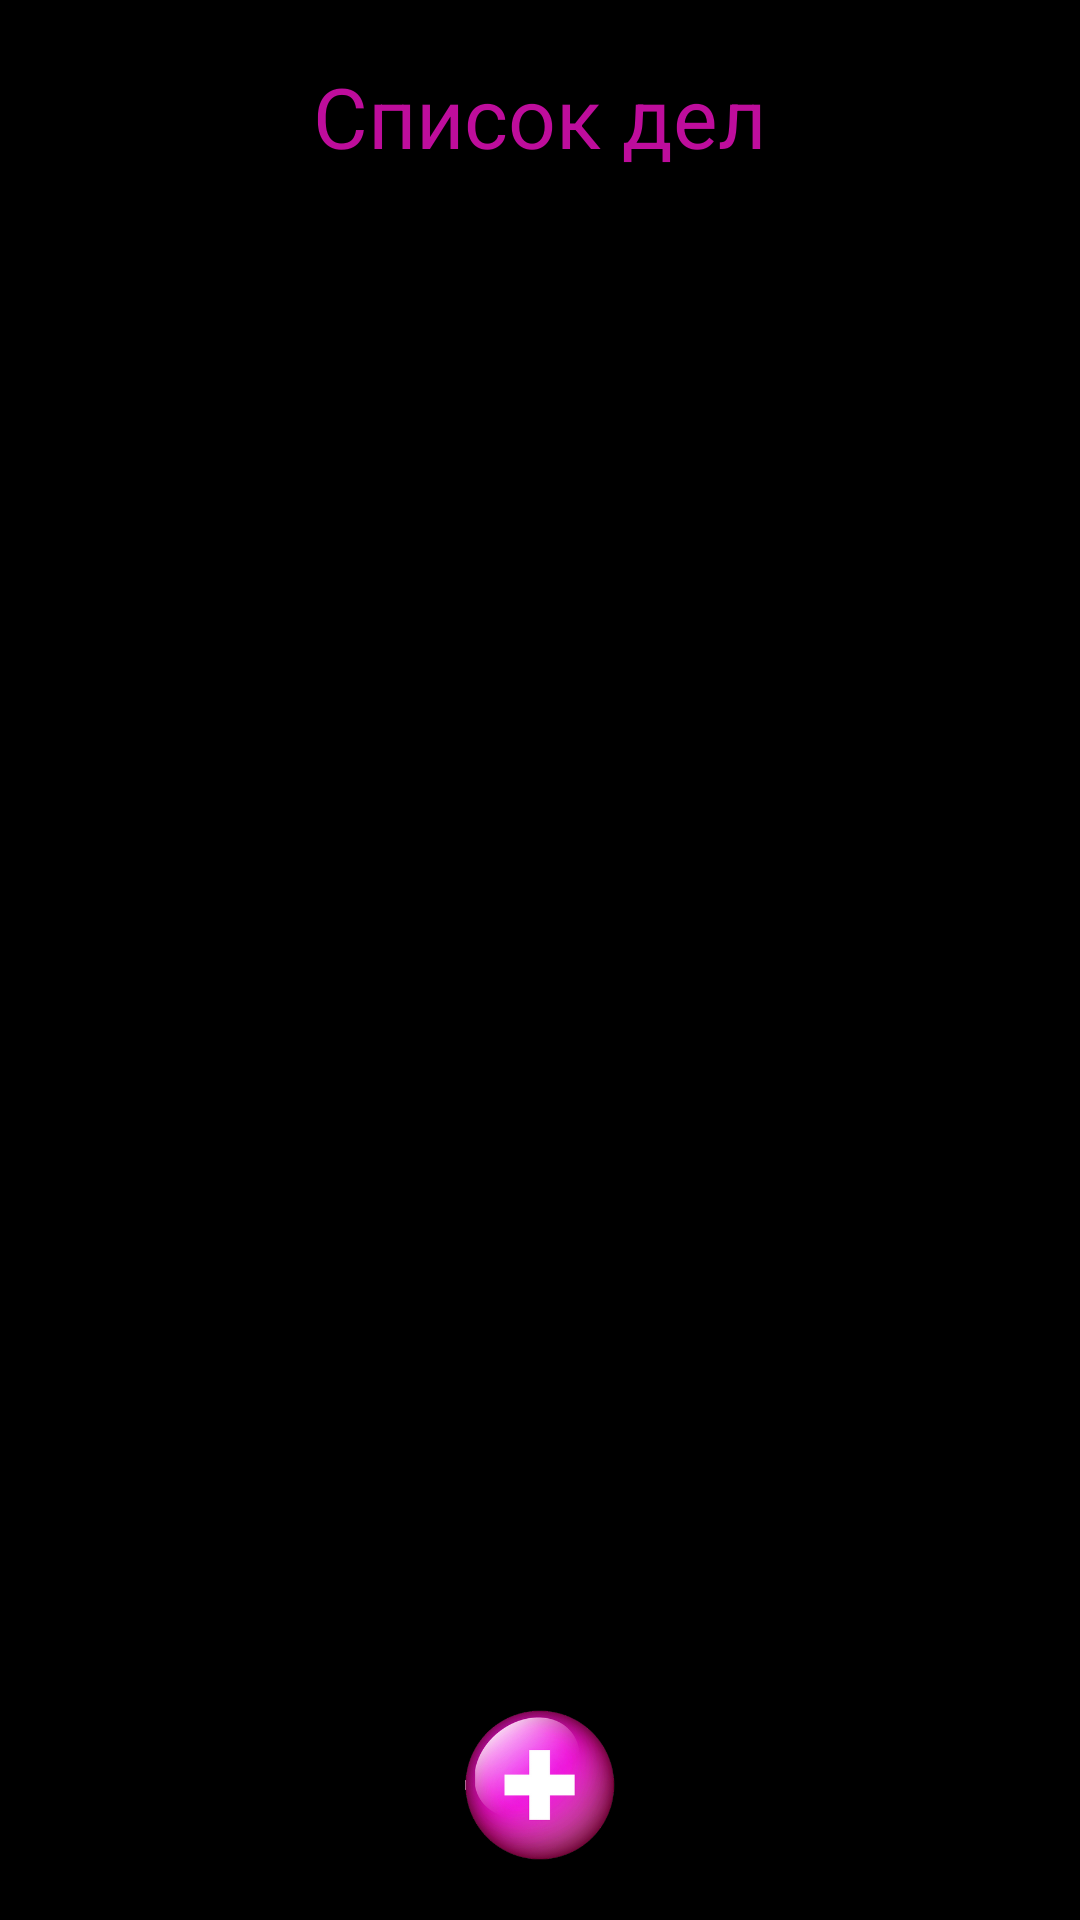

Icons on this 1080 x 1920 Android screen, each with the point to tap as (x,y):
plus: (539,1785)
